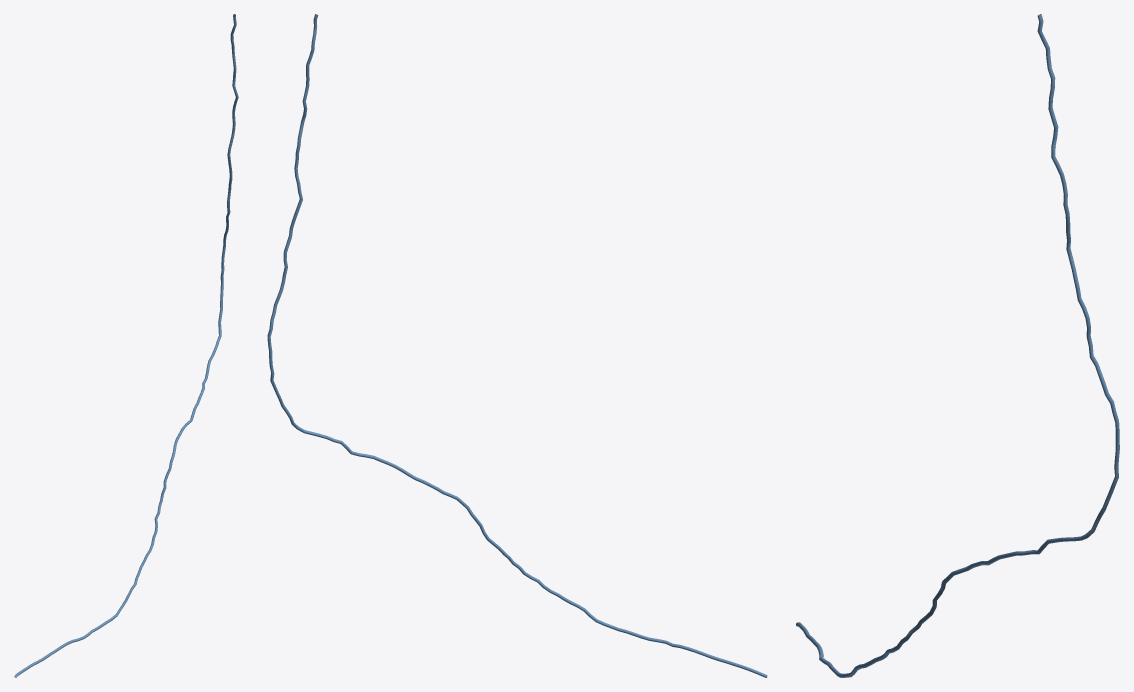
File: sweep139.fbx
3 views of the same model, side by side, from view 1: azimuth 30°, elevation 25°; view 2: azimuth 150°, elevation 25°; view 3: azimuth 270°, elevation 25° (orthographic). The views are drawn at different scales.
Visible parts, largest first — view 1: sweep139; view 2: sweep139; view 3: sweep139.
Boxes of the visible parts, bbox=[...] form: sweep139: bbox=[14, 14, 238, 677]; sweep139: bbox=[267, 14, 767, 677]; sweep139: bbox=[796, 14, 1119, 677].
Bounding box in the file's own units: 2.56 × 4.17 × 1.46.
